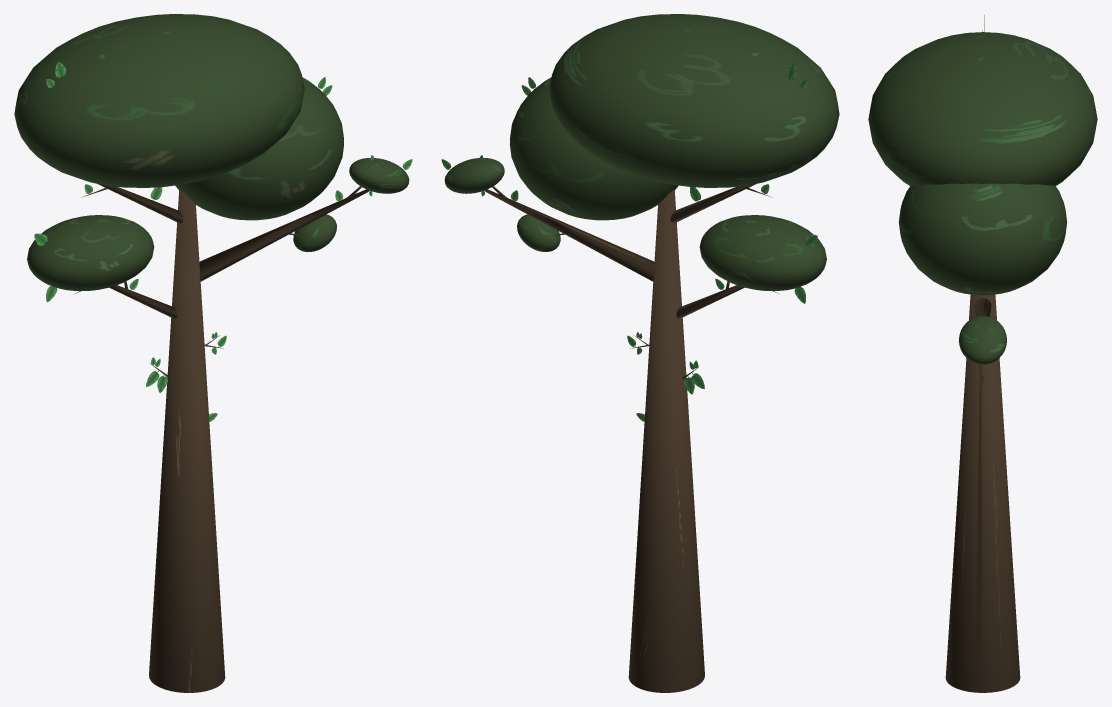
The model's file is arbre1.fbx.
3 views of the same model, side by side, from view 1: azimuth 30°, elevation 25°; view 2: azimuth 150°, elevation 25°; view 3: azimuth 270°, elevation 25° (orthographic). The views are drawn at different scales.
Parts seen in each view (by area): view 1: Sphere.002, TRONC, Sphere.004, Sphere.001, Sphere, Sphere.005; view 2: Sphere.002, TRONC, Sphere.004, Sphere.001, Sphere, Sphere.005; view 3: Sphere.002, TRONC, Sphere.004, Sphere.
Part boxes in pixels (bbox=[...]): Sphere.002: bbox=[14, 14, 304, 187]; TRONC: bbox=[75, 184, 369, 692]; Sphere.004: bbox=[175, 77, 343, 220]; Sphere.001: bbox=[27, 215, 154, 290]; Sphere: bbox=[349, 158, 409, 193]; Sphere.005: bbox=[293, 214, 336, 251]; Sphere.002: bbox=[549, 14, 839, 187]; TRONC: bbox=[484, 184, 778, 692]; Sphere.004: bbox=[509, 77, 678, 220]; Sphere.001: bbox=[699, 215, 826, 290]; Sphere: bbox=[444, 158, 504, 193]; Sphere.005: bbox=[517, 214, 560, 251]; Sphere.002: bbox=[868, 32, 1097, 185]; TRONC: bbox=[945, 294, 1020, 692]; Sphere.004: bbox=[898, 183, 1067, 295]; Sphere: bbox=[959, 316, 1006, 364].
Bounding box in the file's own units: 191 × 309 × 105.
Materials: 4 (3 with a texture image).
